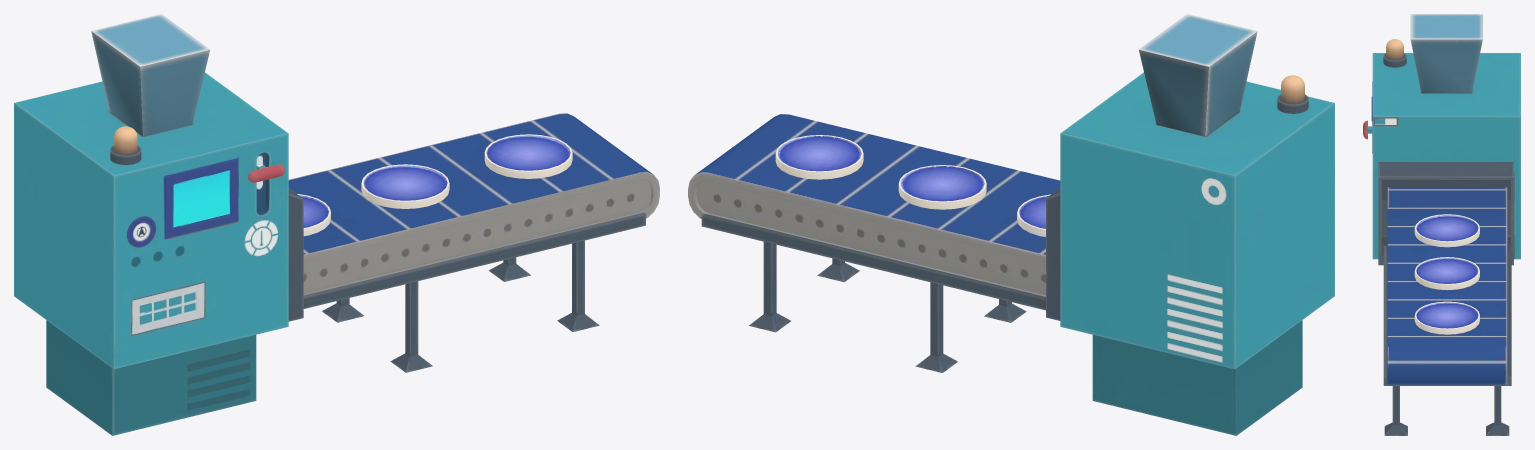
File: PRP_Conveyor.glb
The picture shows the model from 3 angles, left to right: view 1: azimuth 30°, elevation 25°; view 2: azimuth 150°, elevation 25°; view 3: azimuth 270°, elevation 25°; orthographic projection. The views are drawn at different scales.
Parts seen in each view (by area): view 1: Cube, Cube.003, Cube.001, Cube.007, Cube.004, Cylinder003, Cylinder002, Cube.006, Cube.005, Cube.013, Cylinder.002, Cylinder001 (+1 smaller); view 2: Cube, Cube.003, Cube.001, Cube.007, Cube.004, Cylinder002, Cylinder003, Cube.006, Cube.014, Cube.015, Cylinder.002, Cylinder001; view 3: Cube.003, Cube, Cube.007, Cube.006, Cylinder003, Cylinder001, Cylinder002, Cube.004, Cube.015, Cube.013, Cylinder.002.
Boxes of the visible parts, bbox=[...] form: Cube: bbox=[14, 72, 288, 369]; Cube.003: bbox=[288, 113, 659, 295]; Cube.001: bbox=[46, 320, 256, 435]; Cube.007: bbox=[91, 14, 209, 136]; Cube.004: bbox=[303, 212, 645, 308]; Cylinder003: bbox=[484, 134, 572, 178]; Cylinder002: bbox=[361, 164, 449, 208]; Cube.006: bbox=[288, 188, 303, 321]; Cube.005: bbox=[390, 281, 432, 372]; Cube.013: bbox=[557, 240, 599, 331]; Cylinder.002: bbox=[110, 126, 141, 164]; Cylinder001: bbox=[297, 194, 330, 236]; Cube: bbox=[1060, 72, 1334, 369]; Cube.003: bbox=[688, 114, 1060, 296]; Cube.001: bbox=[1092, 320, 1302, 435]; Cube.007: bbox=[1139, 14, 1257, 136]; Cube.004: bbox=[701, 213, 1045, 310]; Cylinder002: bbox=[898, 165, 986, 209]; Cylinder003: bbox=[775, 135, 863, 179]; Cube.006: bbox=[1046, 188, 1060, 320]; Cube.014: bbox=[915, 282, 957, 372]; Cube.015: bbox=[749, 241, 790, 332]; Cylinder.002: bbox=[1277, 75, 1308, 113]; Cylinder001: bbox=[1017, 194, 1050, 237]; Cube.003: bbox=[1387, 187, 1507, 384]; Cube: bbox=[1372, 53, 1520, 259]; Cube.007: bbox=[1410, 14, 1482, 93]; Cube.006: bbox=[1378, 162, 1513, 265]; Cylinder003: bbox=[1414, 301, 1479, 334]; Cylinder001: bbox=[1414, 214, 1479, 247]; Cylinder002: bbox=[1414, 257, 1479, 290]; Cube.004: bbox=[1383, 245, 1511, 385]; Cube.015: bbox=[1486, 386, 1509, 435]; Cube.013: bbox=[1384, 386, 1407, 435]; Cylinder.002: bbox=[1383, 39, 1406, 67].
Bounding box in the file's own units: 3.79 × 2.31 × 1.26.
2 materials, 2 textured.
